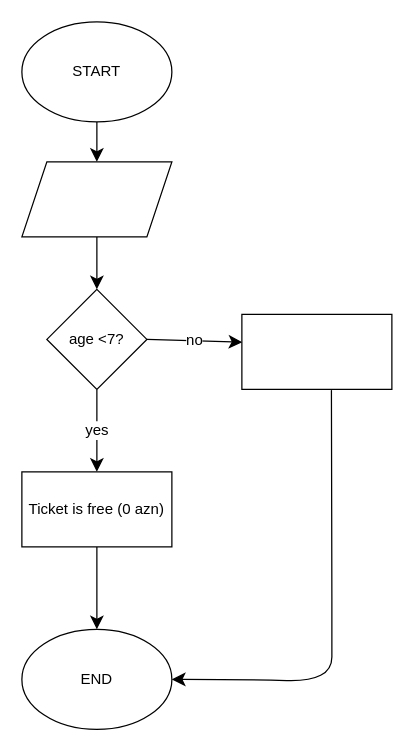
The diagram is 414 pixels wide and 751 high, and some of its shapes have lost their labels. The centre of each missing label's shape, as x and y in pixels:
"enter age" belongs at point (96, 199).
"Ticket price: 8 azn" belongs at point (316, 351).
